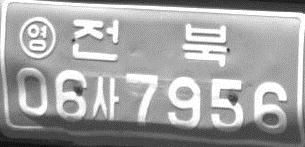0: (16, 66, 49, 118)
5: (209, 78, 243, 133)
6: (253, 81, 287, 135), (54, 69, 87, 121)
7: (125, 72, 159, 126)
9: (166, 76, 201, 129)
사: (92, 75, 119, 121)
영: (18, 15, 56, 59)
전북_D: (71, 18, 228, 67)
